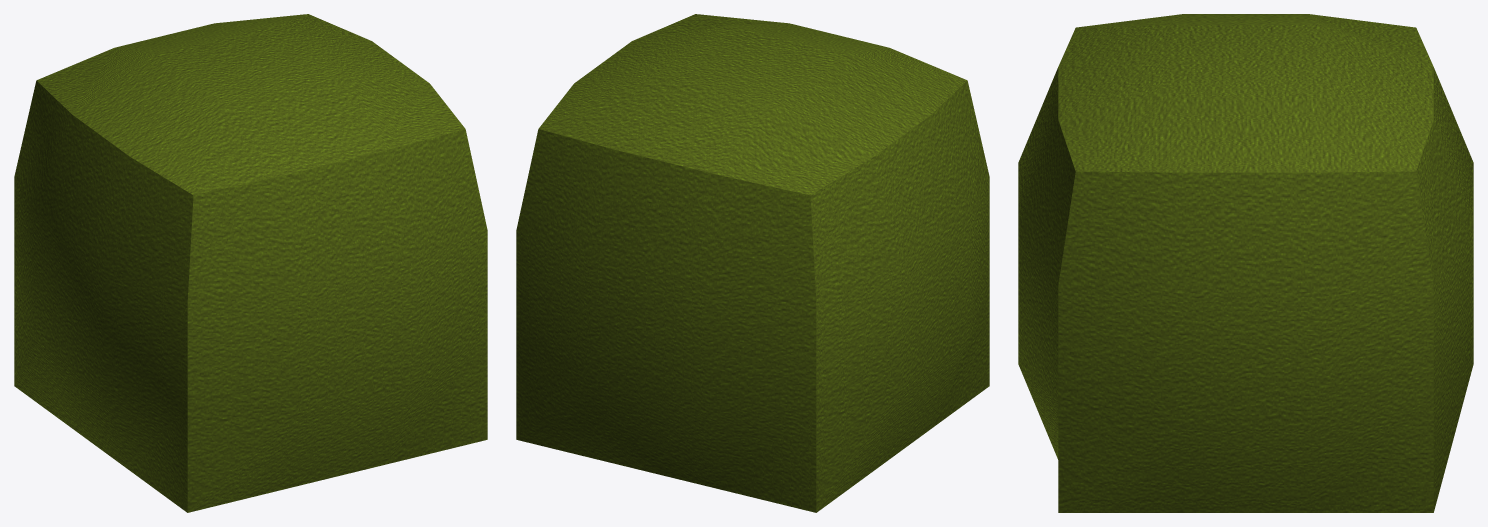
Rendered from Bush.fbx.
3 views of the same model, side by side, from view 1: azimuth 30°, elevation 25°; view 2: azimuth 150°, elevation 25°; view 3: azimuth 270°, elevation 25° (orthographic). The views are drawn at different scales.
Parts seen in each view (by area): view 1: pCube1; view 2: pCube1; view 3: pCube1.
Boxes of the visible parts, x1=… form: pCube1: x1=14, y1=14, x2=487, y2=512; pCube1: x1=516, y1=14, x2=989, y2=512; pCube1: x1=1018, y1=14, x2=1473, y2=512.
Bounding box in the file's own units: 1 × 0.9124 × 1.
